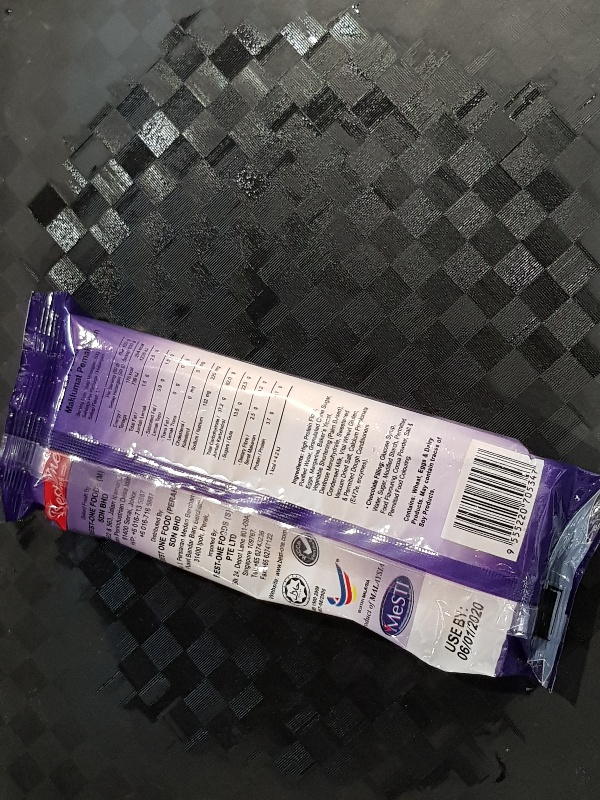Tinges Roll Chocolate: (1, 288, 600, 697)
